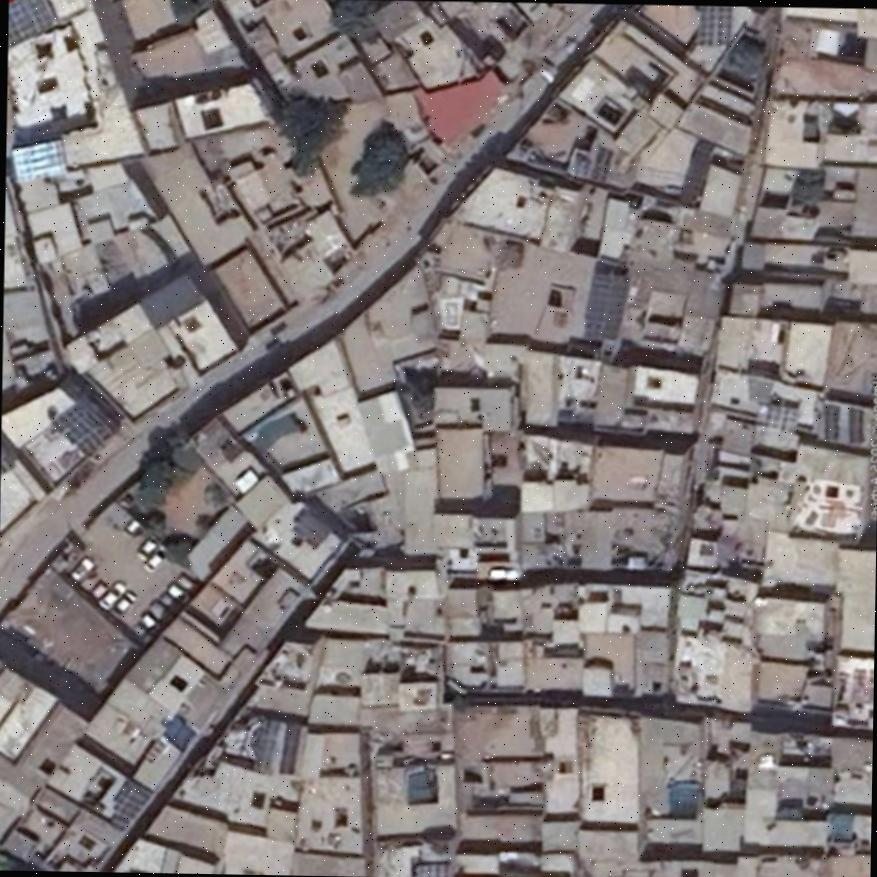Solarpanel: (52, 400, 113, 455), (584, 271, 625, 340), (99, 780, 149, 831), (7, 0, 53, 48), (11, 138, 61, 182), (696, 4, 731, 42), (846, 408, 862, 443), (823, 404, 836, 441), (413, 863, 444, 876)
